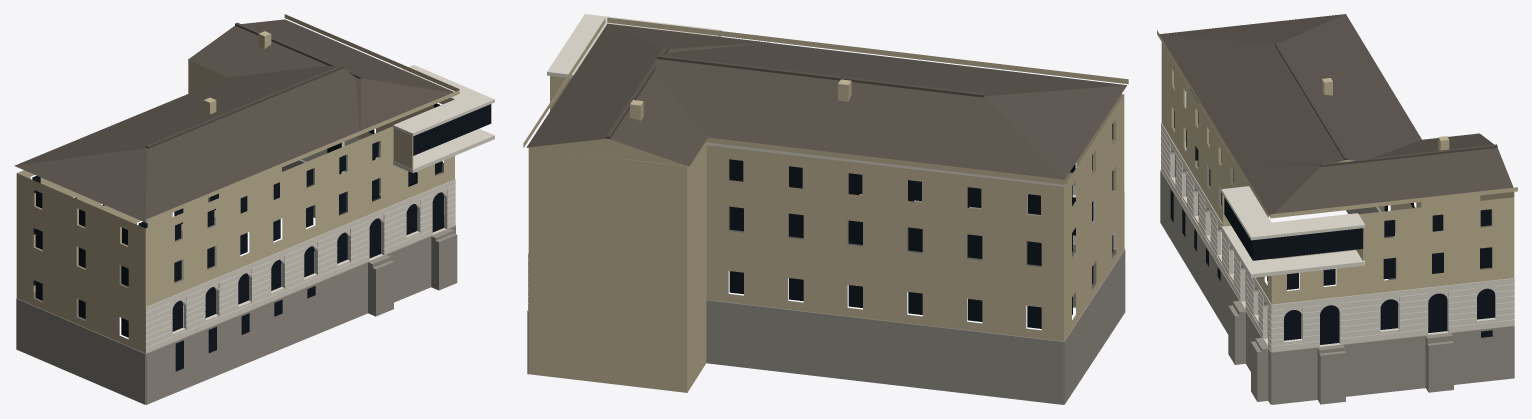
3 views of the same model, side by side, from view 1: azimuth 30°, elevation 25°; view 2: azimuth 150°, elevation 25°; view 3: azimuth 270°, elevation 25° (orthographic). The views are drawn at different scales.
Parts seen in each view (by area): view 1: bm32_wall, bm32_roof, bm32_stone, bm32_wall2, bm32_glass; view 2: bm32_wall, bm32_roof, bm32_stone, bm32_glass, bm32_wall2; view 3: bm32_roof, bm32_wall, bm32_stone, bm32_wall2, bm32_glass.
Part boxes in pixels (bbox=[...]): bm32_wall: bbox=[16, 14, 459, 353]; bm32_roof: bbox=[14, 19, 453, 222]; bm32_stone: bbox=[16, 159, 457, 404]; bm32_wall2: bbox=[145, 65, 494, 353]; bm32_glass: bbox=[32, 103, 491, 371]; bm32_wall: bbox=[523, 17, 1128, 392]; bm32_roof: bbox=[526, 23, 1126, 179]; bm32_stone: bbox=[527, 206, 1125, 404]; bm32_glass: bbox=[729, 123, 1113, 328]; bm32_wall2: bbox=[528, 14, 1124, 310]; bm32_roof: bbox=[1159, 14, 1513, 216]; bm32_wall: bbox=[1157, 30, 1517, 319]; bm32_stone: bbox=[1160, 162, 1514, 404]; bm32_wall2: bbox=[1161, 123, 1514, 351]; bm32_glass: bbox=[1170, 73, 1494, 344].
Size of the model in its own units: 39.24 by 18.1 by 27.51.
